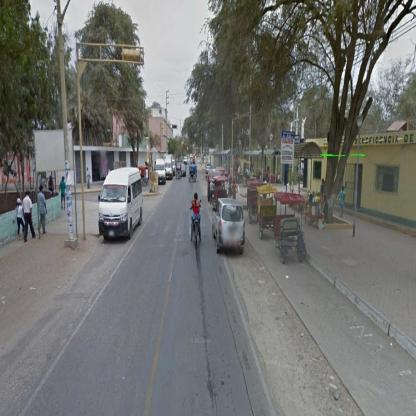Moto: (190, 193, 202, 247)
Peaton: (23, 192, 37, 243), (207, 169, 224, 203), (39, 187, 47, 237), (59, 178, 67, 211)
Pista: (26, 157, 278, 405)
Vehiculo: (100, 167, 144, 241), (213, 198, 246, 255), (258, 185, 278, 241), (247, 180, 264, 225), (156, 160, 168, 185), (190, 165, 198, 183), (177, 164, 183, 180), (183, 158, 189, 166)
